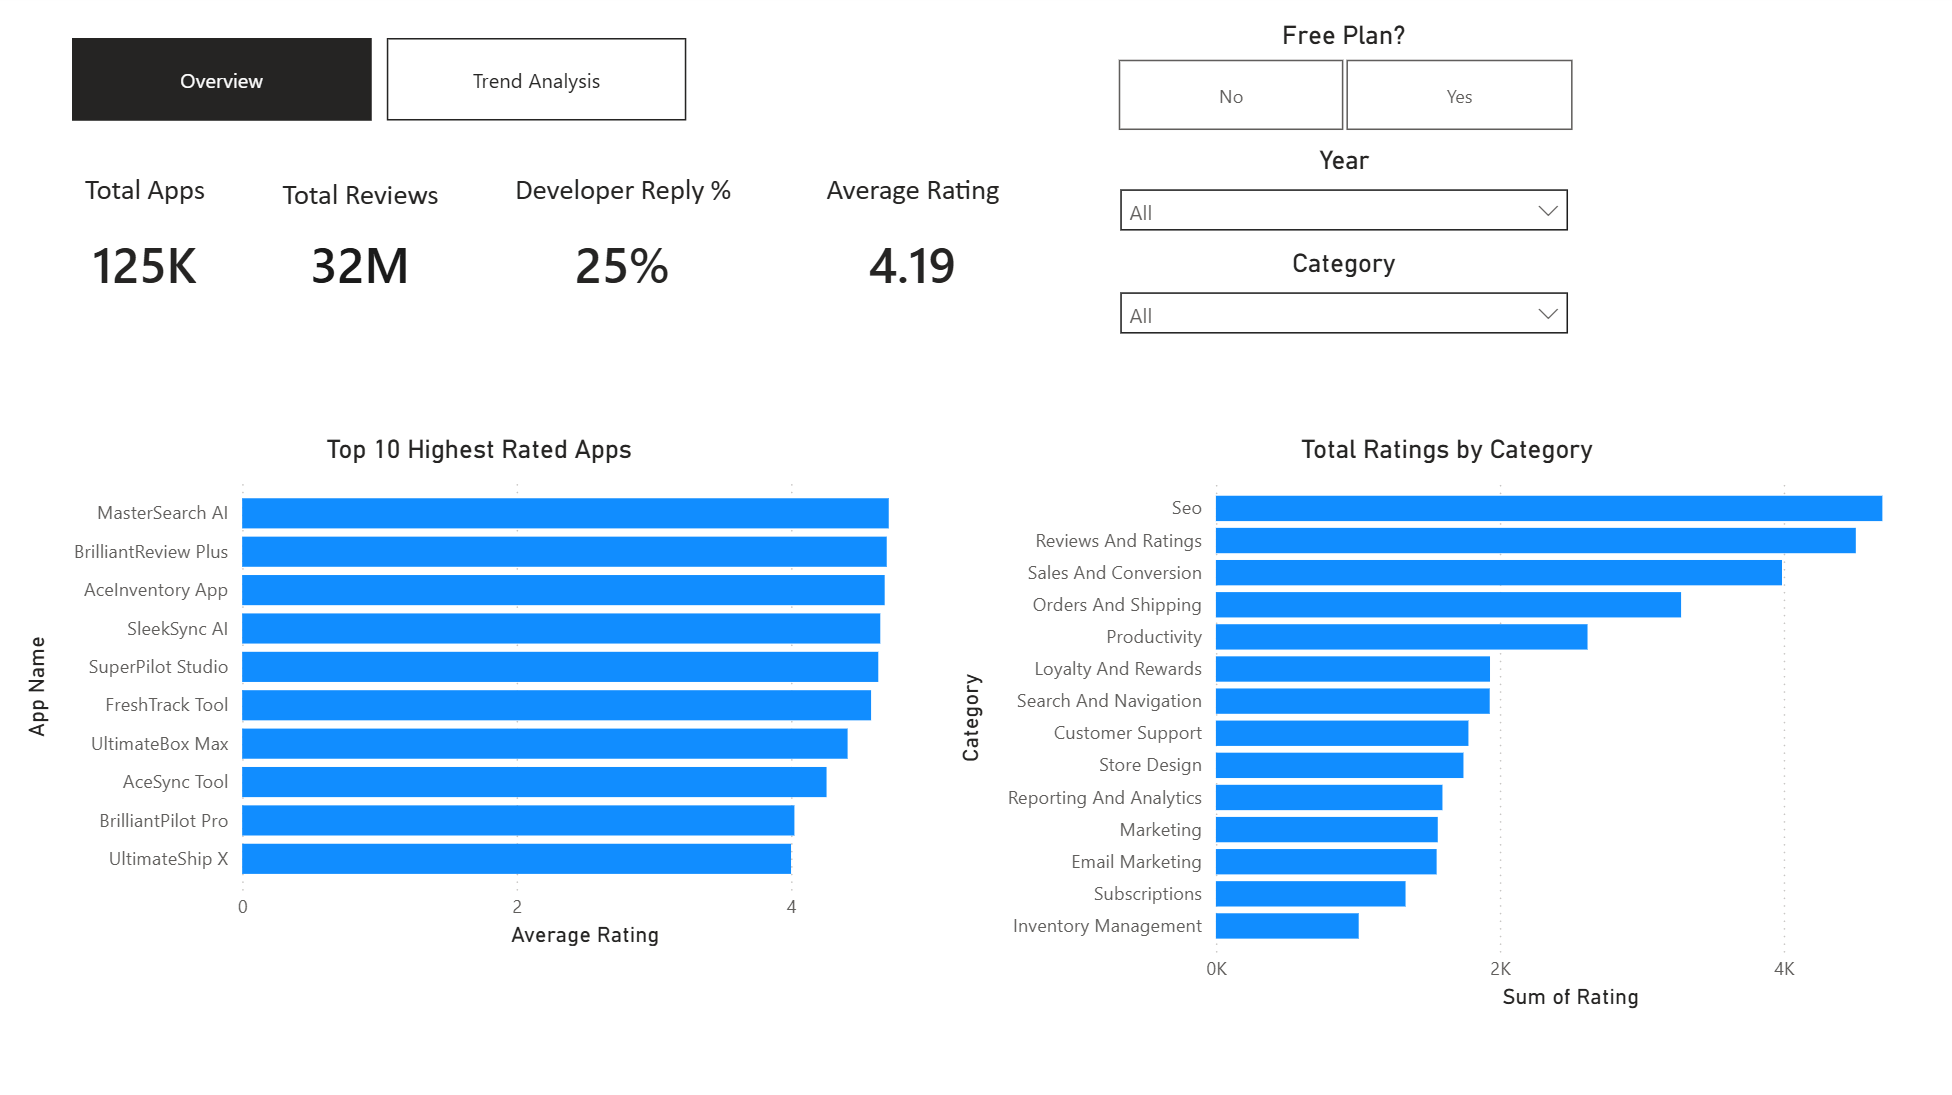

Layout of this report page (visuals, bound fields, positions):
{"tool":"powerbi","page":{"name":"Overview","canvas":[1280,720],"ordinal":0},"visuals":[{"type":"slicer","title":"Category","fields":{"Values":["apps.Category"]},"box":[725.1,165.6,312.8,80.5],"z":0},{"type":"slicer","title":"Year","fields":{"Values":["Dim_Date.Year"]},"box":[725.1,98.2,312.8,68.7],"z":1000},{"type":"slicer","title":"Free Plan?","fields":{"Values":["apps.Has Free Plan"]},"box":[708.1,16.4,346.8,78.5],"z":2000},{"type":"cardVisual","title":"Total Reviews","fields":{"Data":["Sum(reviews.Review Id)"]},"box":[142,118.4,191.7,87.7],"z":3000},{"type":"cardVisual","title":"Total Apps","fields":{"Data":["apps.Total Apps"]},"box":[8.5,115.2,176.7,94.9],"z":4000},{"type":"cardVisual","title":"Average Rating","fields":{"Data":["reviews.Average Rating"]},"box":[508.5,115.2,181.9,94.9],"z":5000},{"type":"cardVisual","title":"Developer Reply %","fields":{"Data":["reviews.Developer Reply %"]},"box":[310.8,115.2,197.6,94.9],"z":6000},{"type":"clusteredBarChart","title":"Top 10 Highest Rated Apps","fields":{"Category":["apps.App Name"],"Y":["reviews.Average Rating"]},"box":[12.4,287.3,606,340.3],"z":7000},{"type":"pageNavigator","box":[49.3,28,403.8,54.6],"z":8000},{"type":"clusteredBarChart","title":"Total Ratings by Category","fields":{"Category":["apps.Category"],"Y":["Sum(reviews.Rating)"]},"box":[623.6,287.3,650.5,380.9],"z":9000}]}

Visuals, with their boxes in screenshot pixels (x1, y1, x2, y2), scaled from the page's 1280x720 canvas onto the 1952x1095 screenshot:
"Category" slicer: <region>1106, 252, 1583, 374</region>
"Year" slicer: <region>1106, 149, 1583, 254</region>
"Free Plan?" slicer: <region>1080, 25, 1609, 144</region>
"Total Reviews" cardVisual: <region>217, 180, 509, 313</region>
"Total Apps" cardVisual: <region>13, 175, 282, 320</region>
"Average Rating" cardVisual: <region>775, 175, 1053, 320</region>
"Developer Reply %" cardVisual: <region>474, 175, 775, 320</region>
"Top 10 Highest Rated Apps" clusteredBarChart: <region>19, 437, 943, 954</region>
pageNavigator: <region>75, 43, 691, 126</region>
"Total Ratings by Category" clusteredBarChart: <region>951, 437, 1943, 1016</region>
